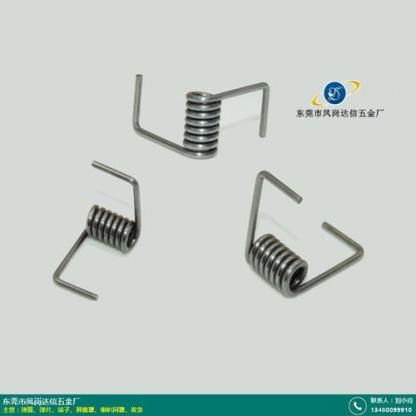FOD: (240, 167, 367, 303), (50, 160, 146, 302), (132, 69, 272, 162)
